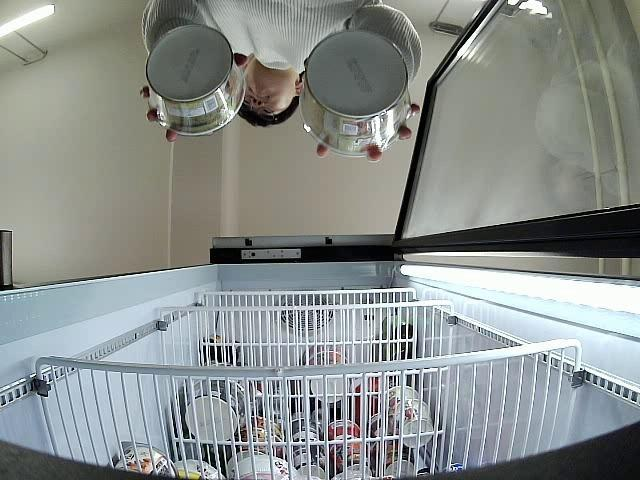03_chapagetti_L: (300, 31, 411, 154), (146, 26, 248, 138)
